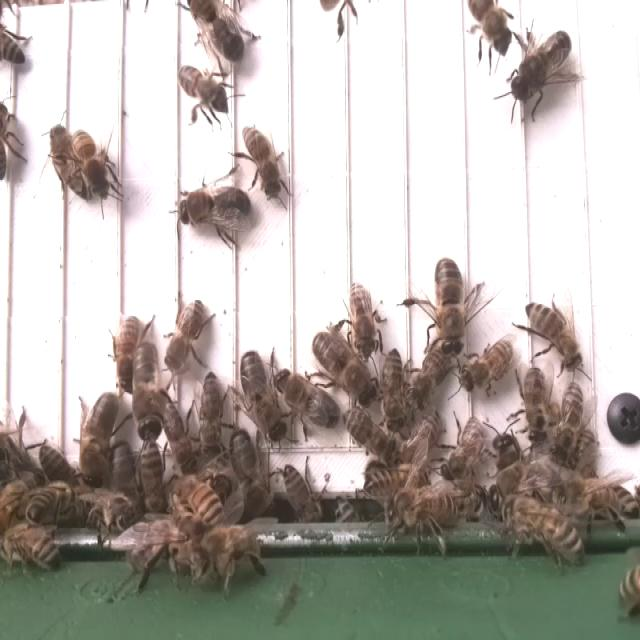Drone: (314, 331, 383, 410), (507, 27, 575, 106), (238, 347, 290, 448), (274, 368, 345, 435), (78, 386, 118, 491), (176, 180, 253, 234), (130, 339, 166, 447), (431, 253, 466, 360)
Worker: (522, 298, 585, 374), (243, 120, 286, 201)
